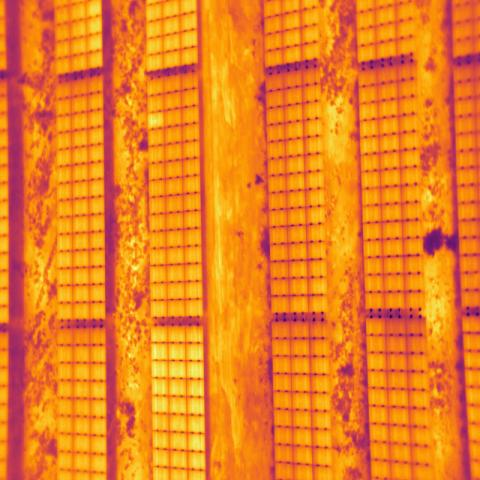fault: (148, 113, 164, 129)
